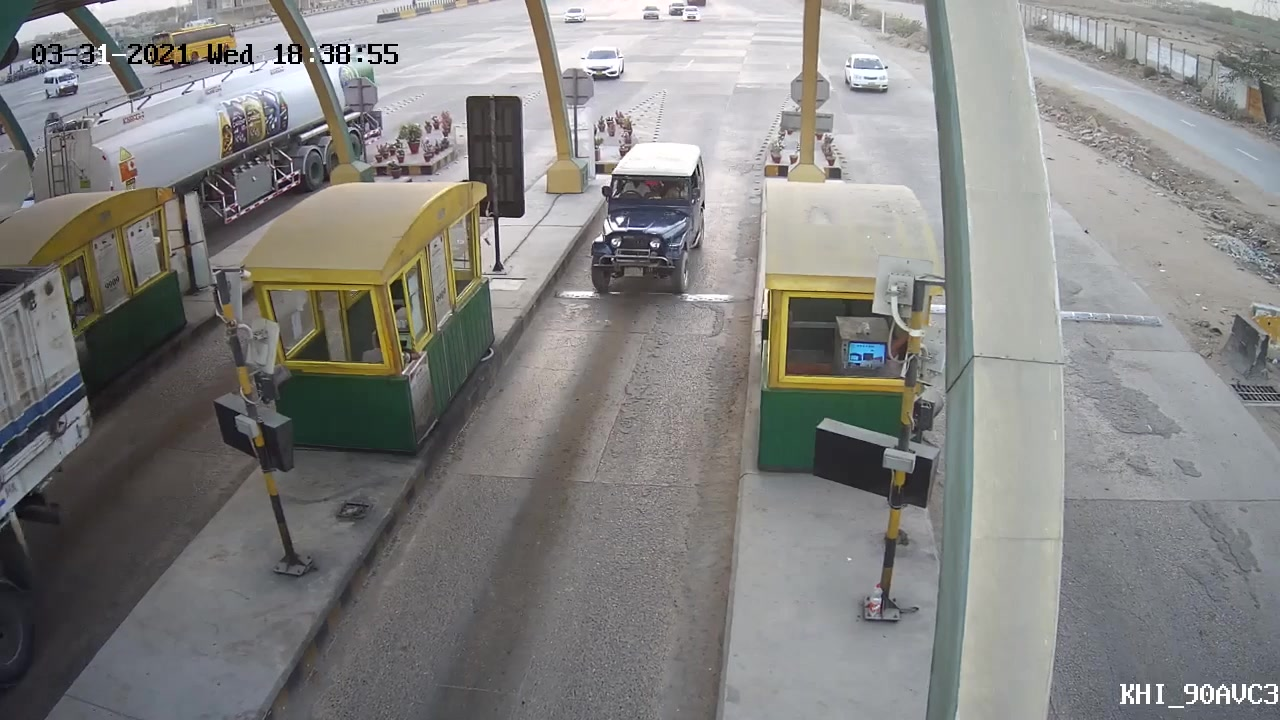F1: (575, 131, 717, 297)
